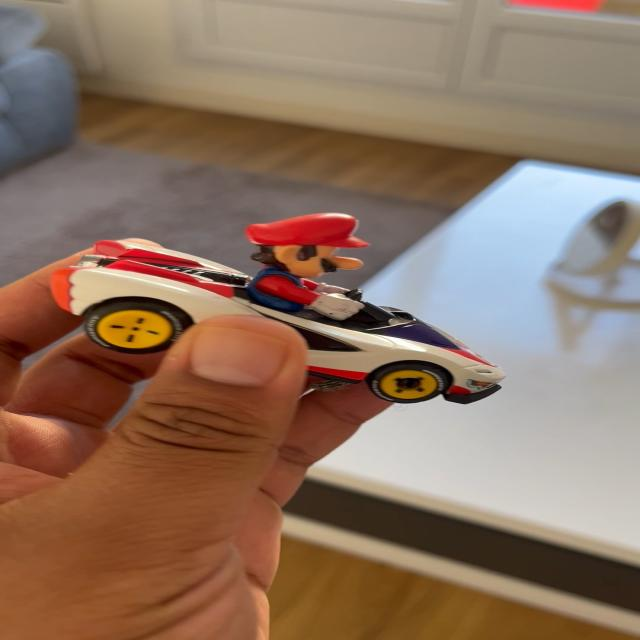mario: (50, 205, 518, 415)
